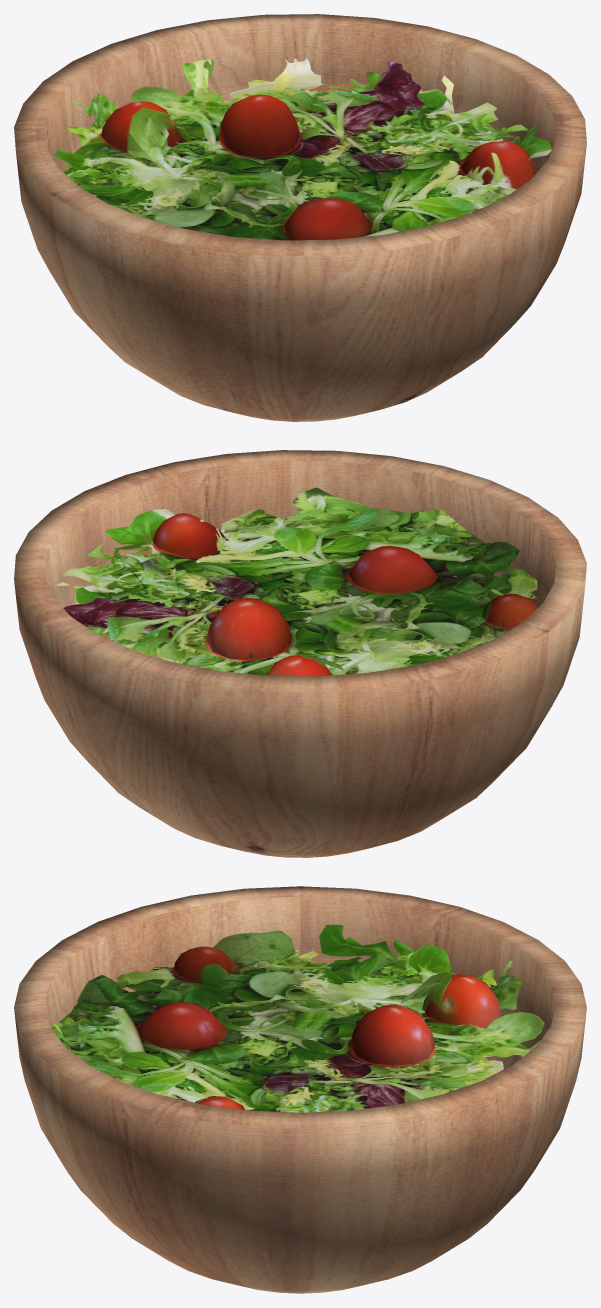
File: Salad.fbx
3 views of the same model, one above another, from view 1: azimuth 30°, elevation 25°; view 2: azimuth 150°, elevation 25°; view 3: azimuth 270°, elevation 25° (orthographic).
Visible parts, largest first — view 1: bowl_Sphere.001, saladBase_Plane, tomatoes_Sphere, leaves_Plane.002; view 2: bowl_Sphere.001, saladBase_Plane, tomatoes_Sphere; view 3: bowl_Sphere.001, saladBase_Plane, tomatoes_Sphere, leaves_Plane.002.
Part boxes in pixels (x1,y1,x2,y2): bowl_Sphere.001: (14,14,586,421); saladBase_Plane: (62,57,551,240); tomatoes_Sphere: (101,94,535,240); leaves_Plane.002: (54,93,171,170); bowl_Sphere.001: (14,450,586,857); saladBase_Plane: (56,487,537,675); tomatoes_Sphere: (153,513,538,676); bowl_Sphere.001: (14,886,586,1293); saladBase_Plane: (51,924,544,1112); tomatoes_Sphere: (137,946,501,1109); leaves_Plane.002: (387,945,522,1010).
Bounding box in the file's own units: 2496 × 1168 × 2496.
3 materials, 3 textured.
